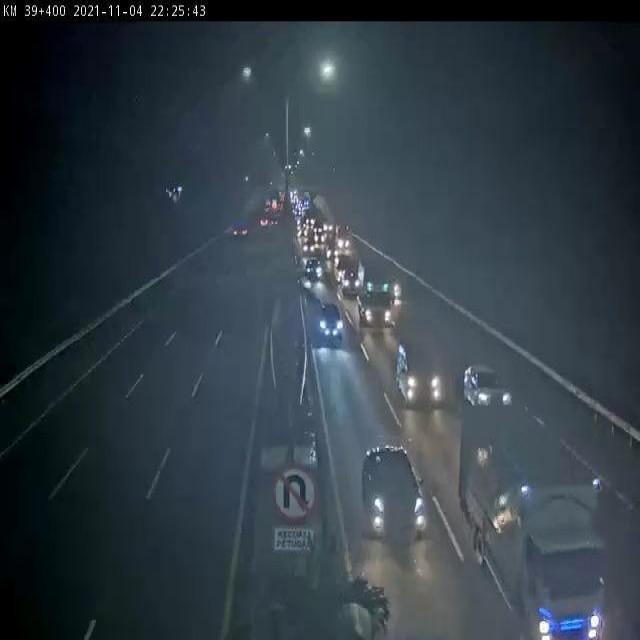car: (363, 451, 422, 533), (393, 339, 444, 408), (464, 361, 515, 415), (318, 299, 345, 345), (303, 255, 324, 281)
truck-m-: (358, 269, 397, 332)
truck-xl-: (460, 406, 609, 640)
